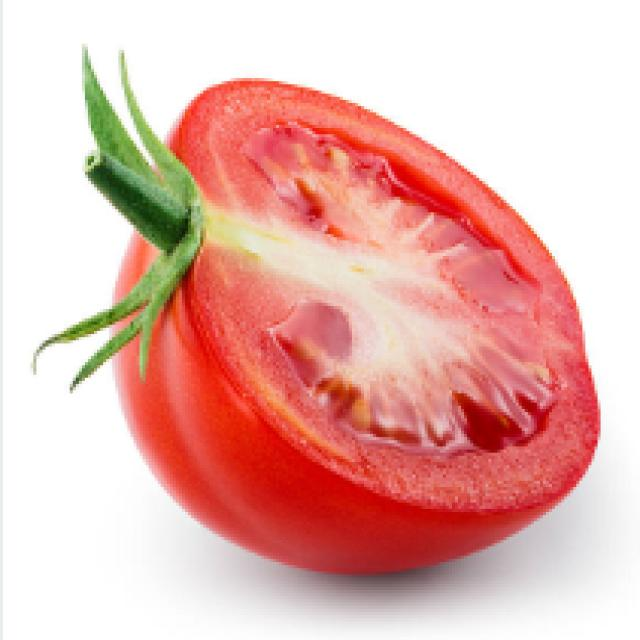Tomato: (38, 40, 610, 591)
